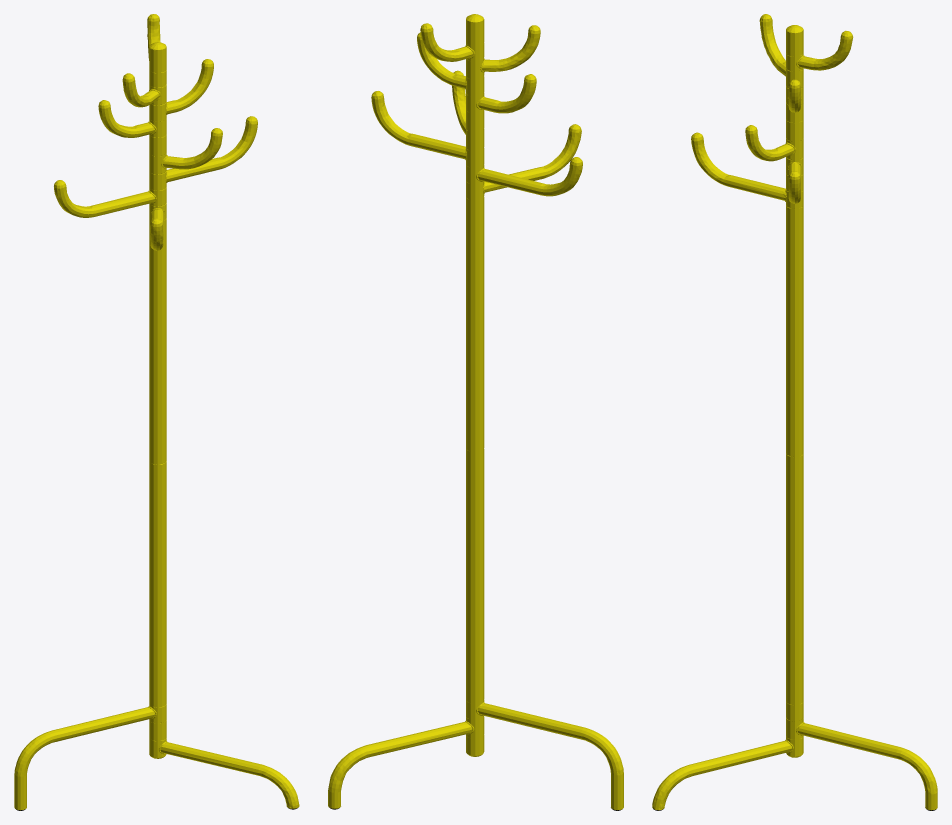
3 views of the same model, side by side, from view 1: azimuth 30°, elevation 25°; view 2: azimuth 150°, elevation 25°; view 3: azimuth 270°, elevation 25° (orthographic). The views are drawn at different scales.
Parts seen in each view (by area): view 1: world; view 2: world; view 3: world.
Boxes of the visible parts, x1,y1,x2,y2 form: world: (14, 14, 299, 810); world: (328, 14, 623, 810); world: (652, 14, 937, 810).
Bounding box in the file's own units: 0.6 × 1.75 × 0.6.
